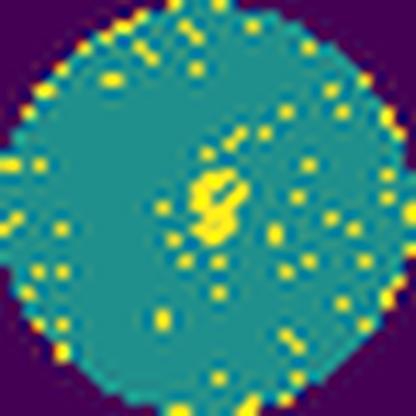Center: (181, 168, 253, 253)
